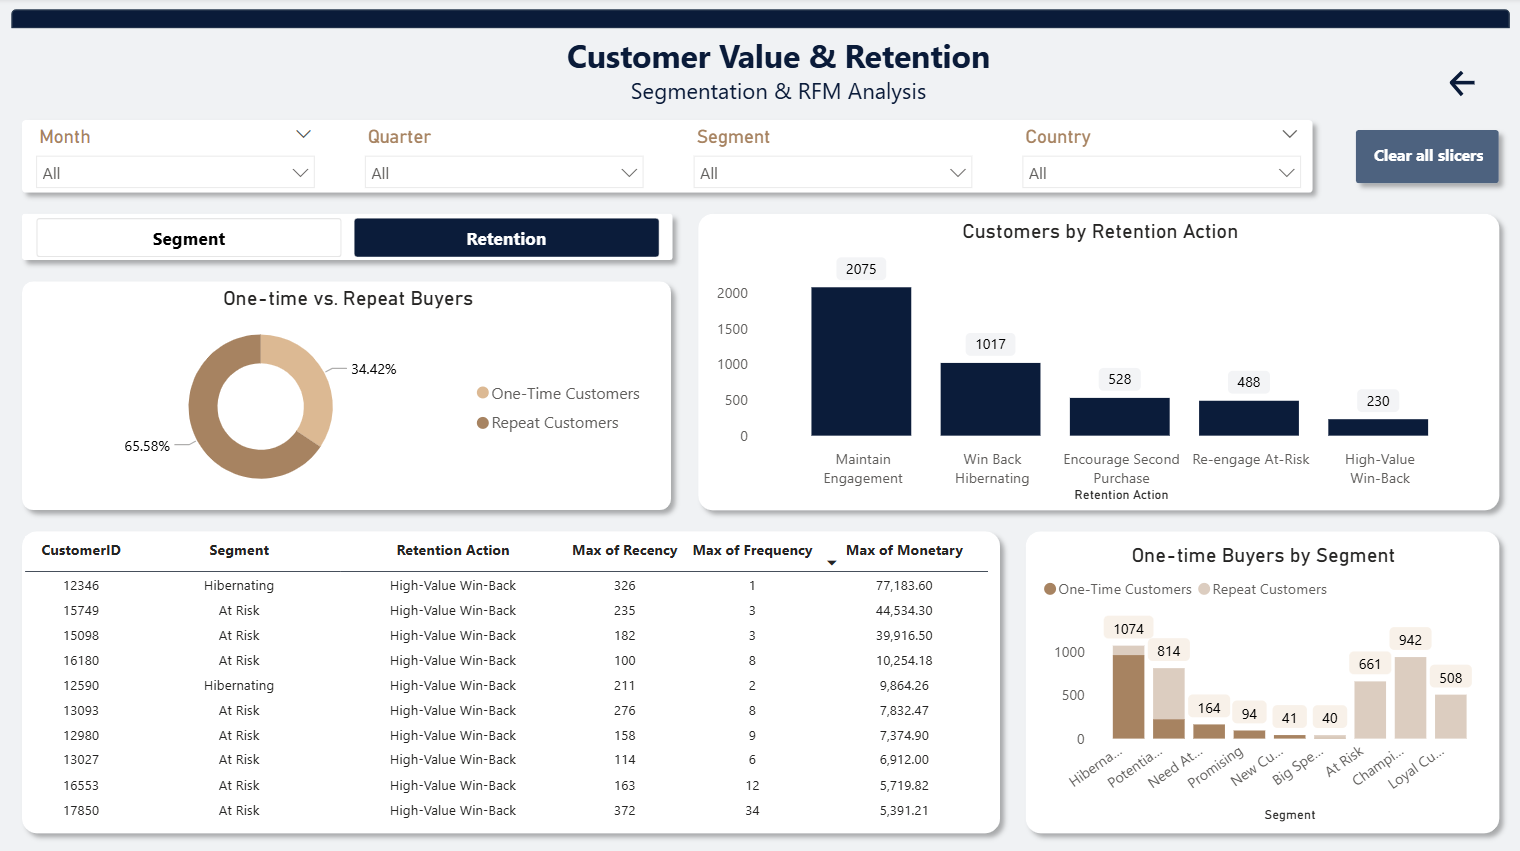

Layout of this report page (visuals, bound fields, positions):
{"tool":"powerbi","page":{"name":"RFM Analysis","canvas":[1280,720],"ordinal":1},"visuals":[{"type":"shape","box":[9.3,94,1103.5,79.1],"z":0,"group":"g4"},{"type":"shape","box":[1131.4,102.3,138.4,62.8],"z":0,"group":"g3"},{"type":"slicer","fields":{"Values":["MonthlySales.Month.Variation.Date Hierarchy.Month"]},"box":[19.8,103.2,255.1,61.9],"z":0,"group":"g1"},{"type":"shape","box":[577.9,172.1,691.9,267.4],"z":0,"group":"g2"},{"type":"donutChart","title":"One-time vs. Repeat Buyers Donut","fields":{"Y":["CustomerRFM.One-Time Buyers","CustomerRFM.Repeat Buyers"]},"box":[33.8,242,518.6,184.9],"z":0,"group":"g5"},{"type":"shape","box":[853.5,439.5,416.3,272.1],"z":0},{"type":"group","id":"g1","title":"Group 1","box":[19.8,103.2,1084.7,61.9],"z":1000,"group":"g4"},{"type":"slicer","fields":{"Values":["MonthlySales.Month.Variation.Date Hierarchy.Quarter"]},"box":[296.4,103.2,255.1,61.9],"z":1000,"group":"g1"},{"type":"actionButton","box":[1141.4,105.4,119.8,52.3],"z":1000,"group":"g3"},{"type":"shape","box":[9.3,229.1,564,210.5],"z":1000},{"type":"columnChart","title":"One-time Buyers by Segment","fields":{"Category":["CustomerRFM.Segment"],"Y":["CustomerRFM.One-Time Buyers","CustomerRFM.Repeat Buyers"]},"box":[872.8,458.8,380.2,239.5],"z":1000,"group":"g5"},{"type":"textbox","box":[447.7,25.6,414,75.6],"z":2000},{"type":"slicer","fields":{"Values":["CustomerRFM.Segment"]},"box":[573,103.2,255.1,61.9],"z":2000,"group":"g1"},{"type":"tableEx","title":"High-Value Inactive Customers","fields":{"Values":["CustomerRFM.CustomerID","CustomerRFM.Segment","CustomerRFM.Retention Action","Max(CustomerRFM.Recency)","Max(CustomerRFM.Frequency)","Max(CustomerRFM.Monetary)"]},"box":[16.8,448.8,823.3,240.7],"z":2000,"group":"g5"},{"type":"slicer","fields":{"Values":["SalesTransactions.Country"]},"box":[849.4,103.2,255.1,61.9],"z":3000,"group":"g1"},{"type":"clusteredColumnChart","title":"Customers by Retention Action","fields":{"Y":["CustomerRFM.Total Customers"],"Category":["CustomerRFM.Retention Action"]},"box":[597.8,186.2,654.7,243],"z":3000,"group":"g5"},{"type":"shape","box":[9.3,439.5,840.7,272.1],"z":3000},{"type":"group","id":"g2","title":"Group 2","box":[577.9,172.1,691.9,267.4],"z":4000},{"type":"shape","box":[9.3,9.3,1260.5,16.3],"z":5000},{"type":"actionButton","box":[1215.1,57,37.2,30.2],"z":6000},{"type":"shape","box":[9.3,172.1,565.1,57],"z":7000},{"type":"group","id":"g3","title":"Group 8","box":[1131.4,102.3,138.4,62.8],"z":8000},{"type":"group","id":"g4","title":"Group 9","box":[9.3,94,1103.5,79.1],"z":9000},{"type":"group","id":"g5","title":"Retention","box":[16.8,186.2,1236.2,512.2],"z":10000},{"type":"bookmarkNavigator","box":[30.2,184.9,525.6,33.7],"z":11000}]}

Visuals, with their boxes in screenshot pixels (x1, y1, x2, y2), scaled from the page's 1280x720 canvas onto the 1520x851 screenshot:
shape: rect(11, 111, 1321, 205)
shape: rect(1344, 121, 1508, 195)
slicer - MonthlySales.Month.Variation.Date Hierarchy.Month: rect(24, 122, 326, 195)
shape: rect(686, 203, 1508, 519)
"One-time vs. Repeat Buyers Donut" donutChart: rect(40, 286, 656, 505)
shape: rect(1014, 519, 1508, 841)
"Group 1" group: rect(24, 122, 1312, 195)
slicer - MonthlySales.Month.Variation.Date Hierarchy.Quarter: rect(352, 122, 655, 195)
actionButton: rect(1355, 125, 1498, 186)
shape: rect(11, 271, 681, 520)
"One-time Buyers by Segment" columnChart: rect(1036, 542, 1488, 825)
textbox: rect(532, 30, 1023, 120)
slicer - CustomerRFM.Segment: rect(680, 122, 983, 195)
"High-Value Inactive Customers" tableEx: rect(20, 530, 998, 815)
slicer - SalesTransactions.Country: rect(1009, 122, 1312, 195)
"Customers by Retention Action" clusteredColumnChart: rect(710, 220, 1487, 507)
shape: rect(11, 519, 1009, 841)
"Group 2" group: rect(686, 203, 1508, 519)
shape: rect(11, 11, 1508, 30)
actionButton: rect(1443, 67, 1487, 103)
shape: rect(11, 203, 682, 271)
"Group 8" group: rect(1344, 121, 1508, 195)
"Group 9" group: rect(11, 111, 1321, 205)
"Retention" group: rect(20, 220, 1488, 825)
bookmarkNavigator: rect(36, 219, 660, 258)
